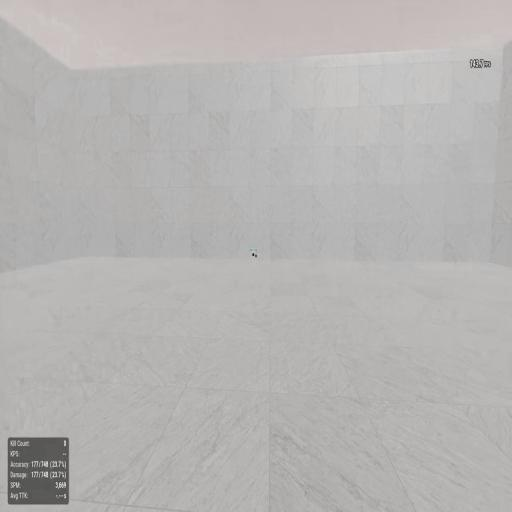Crosshair: (255, 254, 257, 258)
Target: (252, 252, 255, 257)
